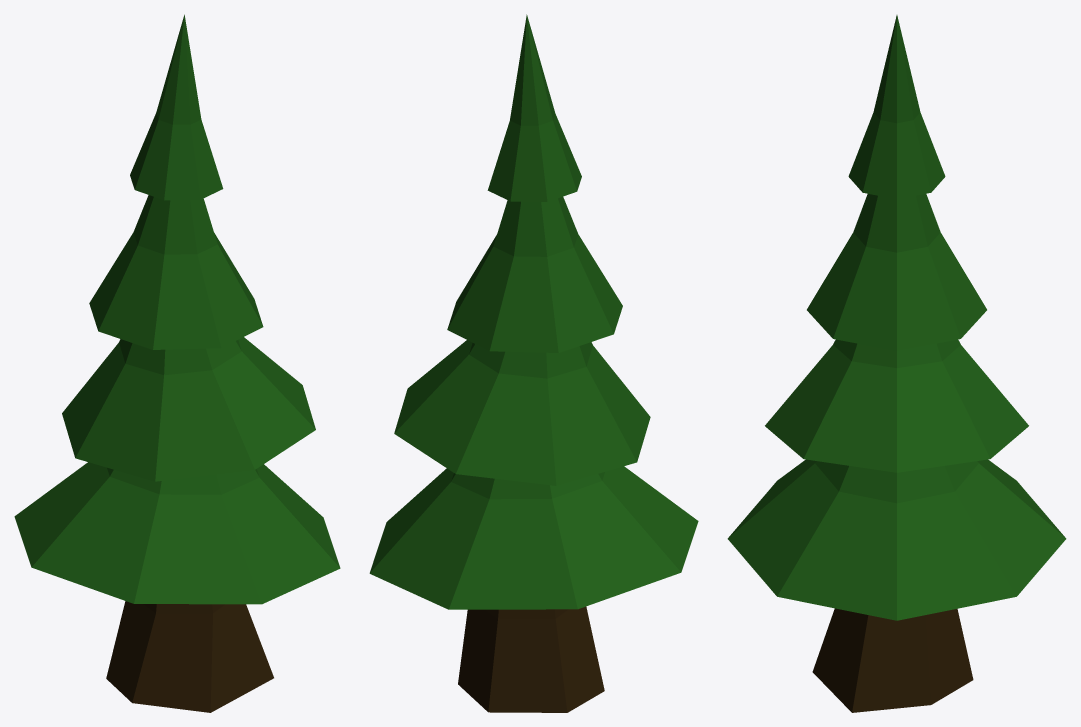
File: arvoreLowPoly.glb
3 views of the same model, side by side, from view 1: azimuth 30°, elevation 25°; view 2: azimuth 150°, elevation 25°; view 3: azimuth 270°, elevation 25° (orthographic).
Visible parts, largest first — view 1: tronco; view 2: tronco; view 3: tronco.
Part boxes in pixels (<box>): tronco: <box>14,14,340,712</box>; tronco: <box>369,14,698,712</box>; tronco: <box>727,15,1066,712</box>.
Size of the model in its own units: 3.45 by 7.5 by 3.46.
